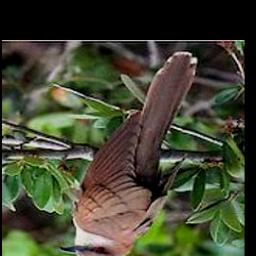Cuckoo: (59, 52, 197, 256)
